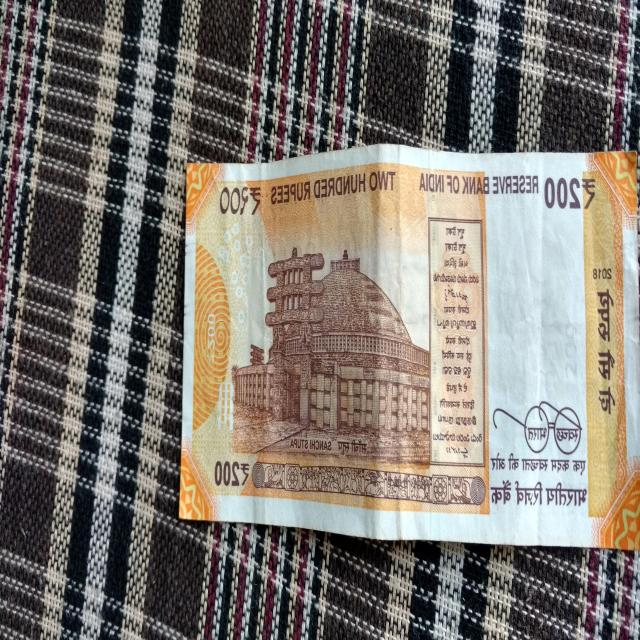Currency: (170, 150, 639, 548)
